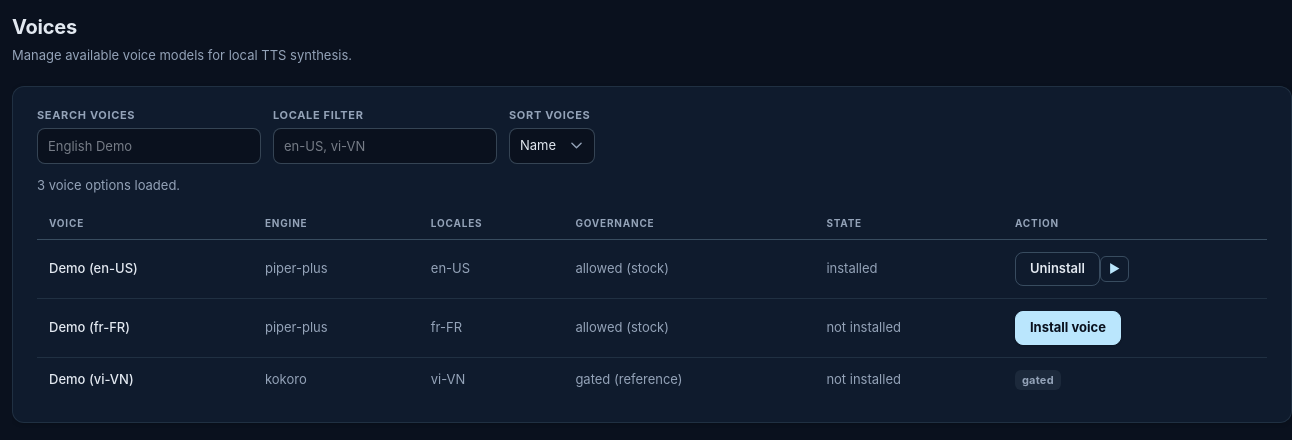
Test: VoicesPanel › loads voices through MSW and filters them by locale
The width and height of the screenshot is (1292, 440).
Check: the text "Demo (en-US)" is shown, box x1=37 y1=239 x2=253 y2=298
Check: the text "Demo (vi-VN)" is shown, box x1=37 y1=357 x2=253 y2=402
Type "vi-VN" into the field labelled "Locale filter" at (385, 146), box x1=273 y1=128 x2=497 y2=164
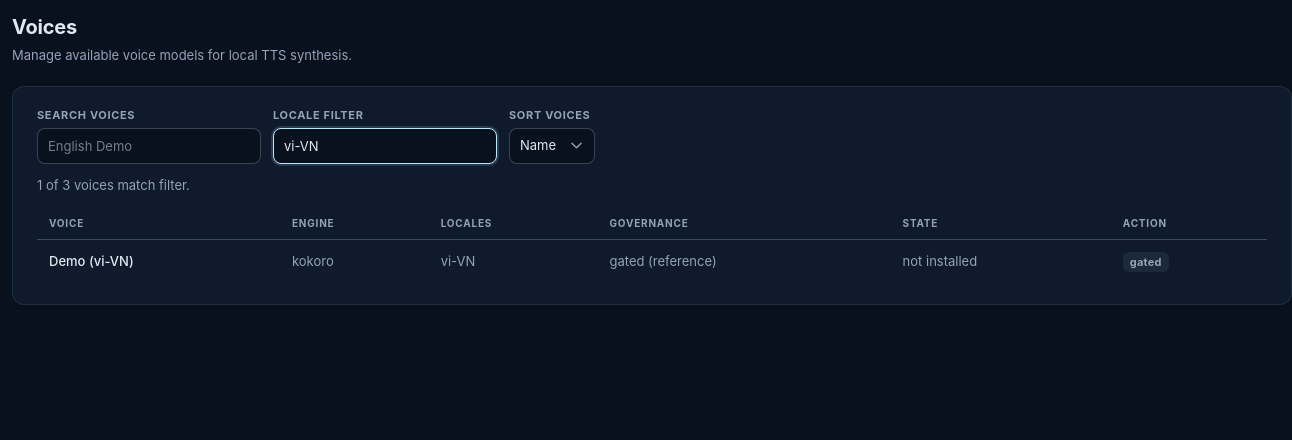
Check: the text "Demo (en-US)" is not shown
Check: the text "Demo (vi-VN)" is shown, box x1=37 y1=239 x2=280 y2=284
Check: the button "Install voice" is gone
